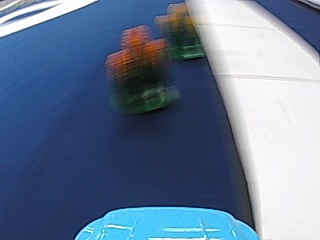corn: (104, 21, 175, 115)
